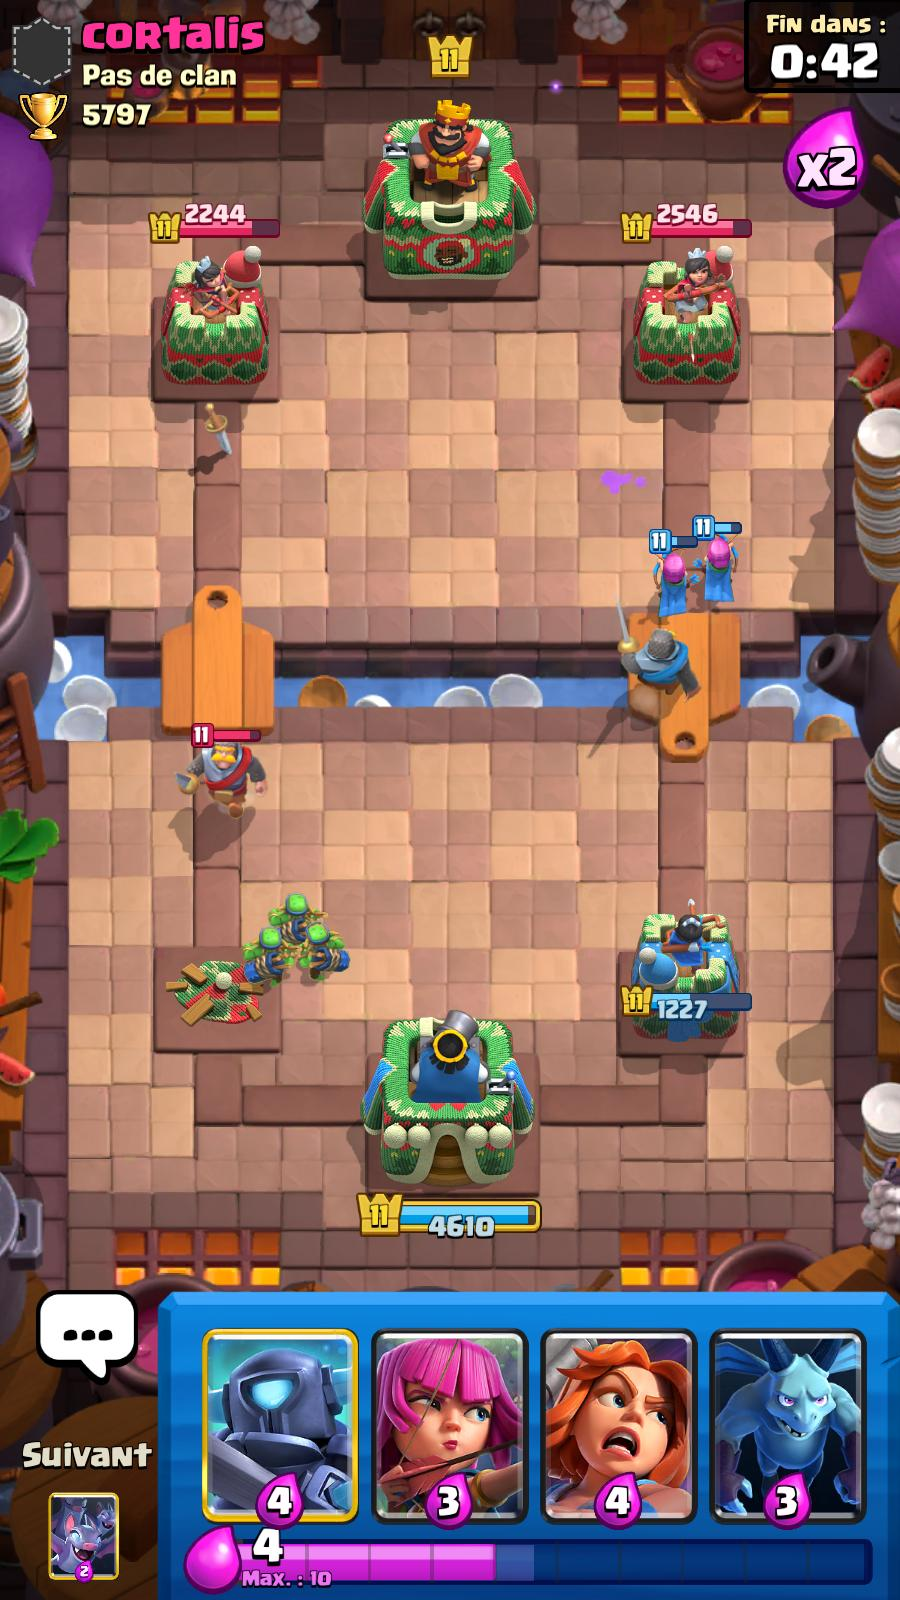archere: (687, 516, 757, 609), (636, 521, 702, 615)
chevalier: (168, 723, 281, 826), (607, 608, 708, 715)
gobelin_lances: (285, 922, 370, 990), (260, 884, 331, 948), (229, 929, 296, 989)
